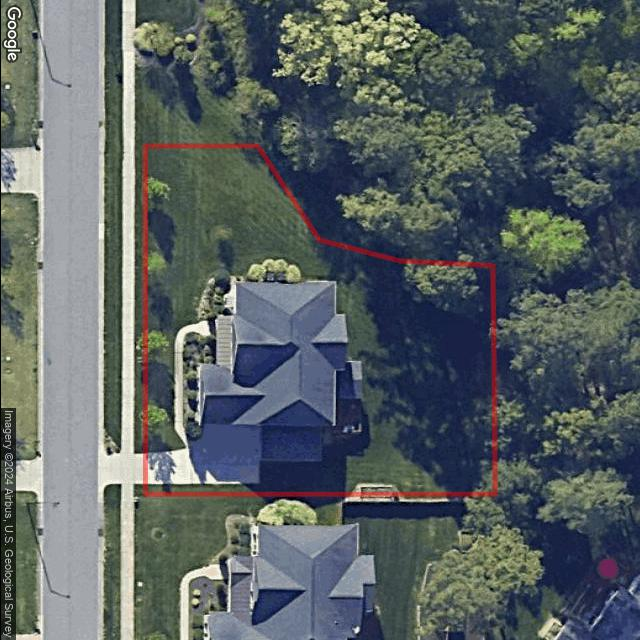Driveway: (144, 424, 260, 484)
Extra-Driveway: (102, 453, 144, 489)
Extra-Lawn: (133, 63, 341, 453), (103, 147, 121, 457), (103, 484, 121, 496), (132, 484, 145, 496)
Extra-Sidewalk: (118, 146, 135, 455), (120, 484, 132, 496)
House: (196, 282, 347, 426)
Lawn: (144, 145, 495, 496)
Other: (260, 362, 362, 462), (181, 333, 215, 447), (196, 268, 232, 322), (230, 257, 301, 281)
Sidewalk: (173, 321, 217, 448)
